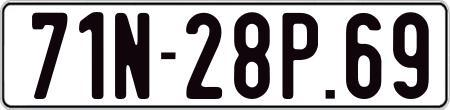1: (77, 11, 101, 103)
2: (185, 12, 224, 103)
6: (346, 13, 383, 102)
7: (31, 10, 69, 97)
8: (231, 11, 271, 102)
9: (393, 10, 431, 101)
N: (114, 10, 152, 97)
P: (280, 10, 320, 97)
